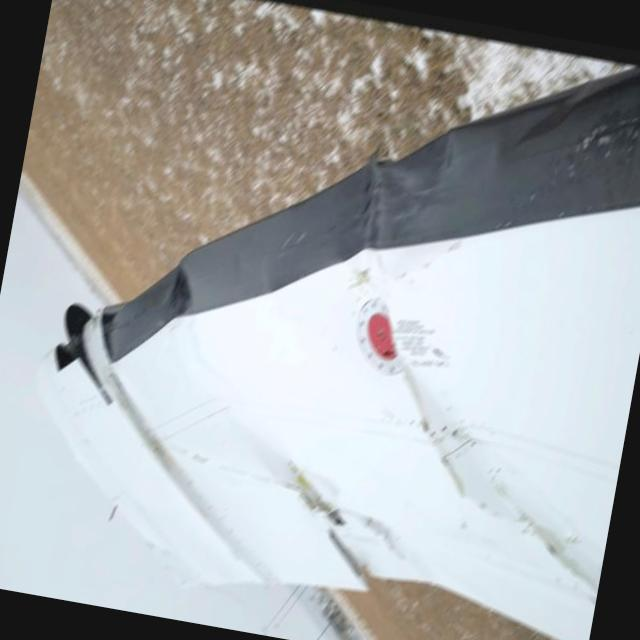crack: (267, 459, 413, 594), (471, 467, 615, 596), (376, 350, 486, 491)
